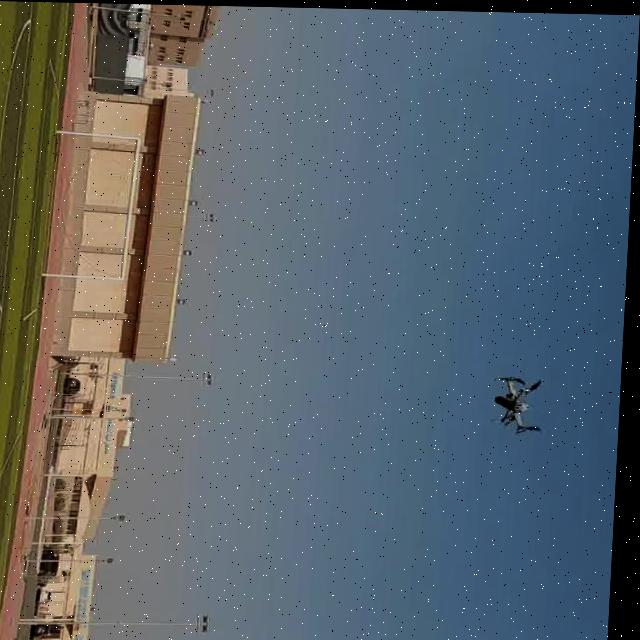drone: (490, 367, 556, 436)
